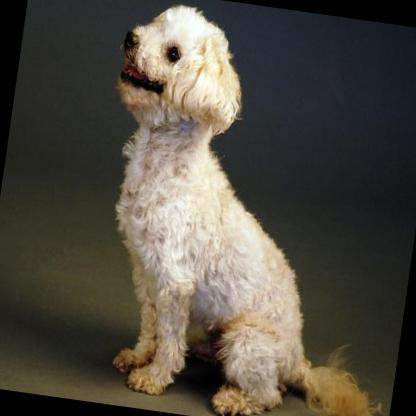toy_poodle: (69, 0, 416, 416)
